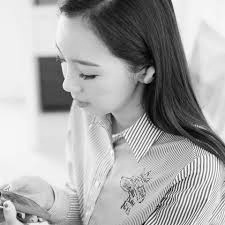earphone: (136, 58, 157, 85)
